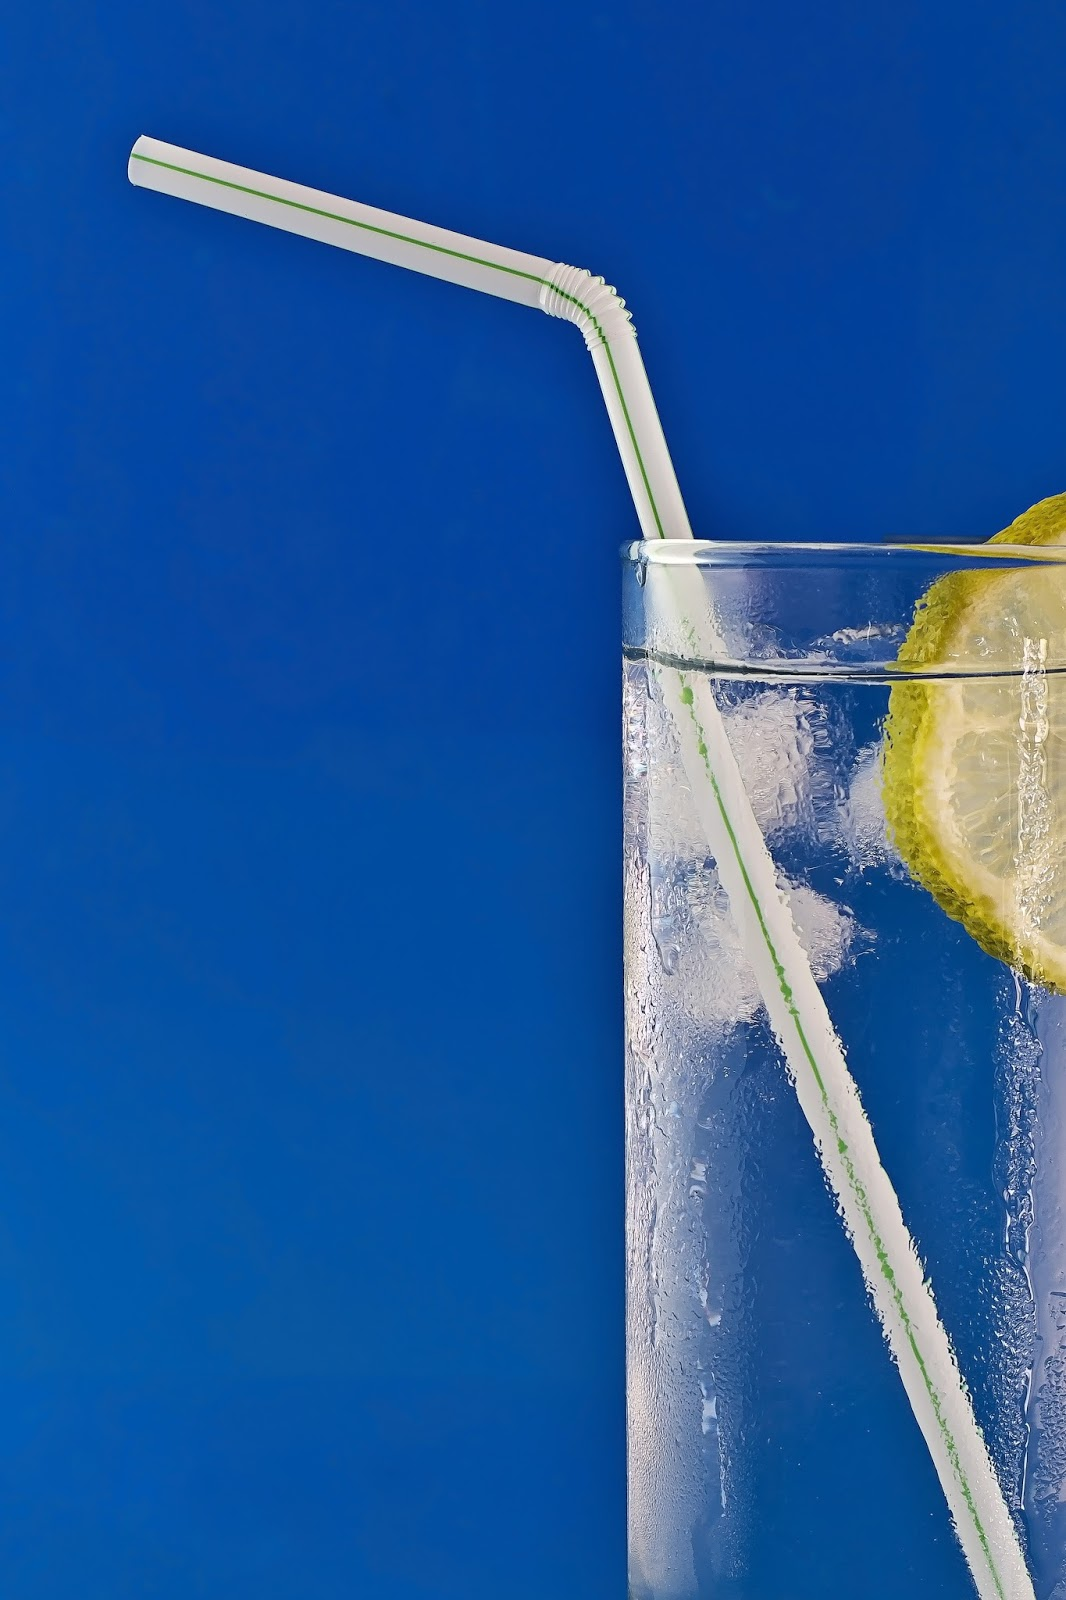PP: (127, 138, 1046, 1600)
